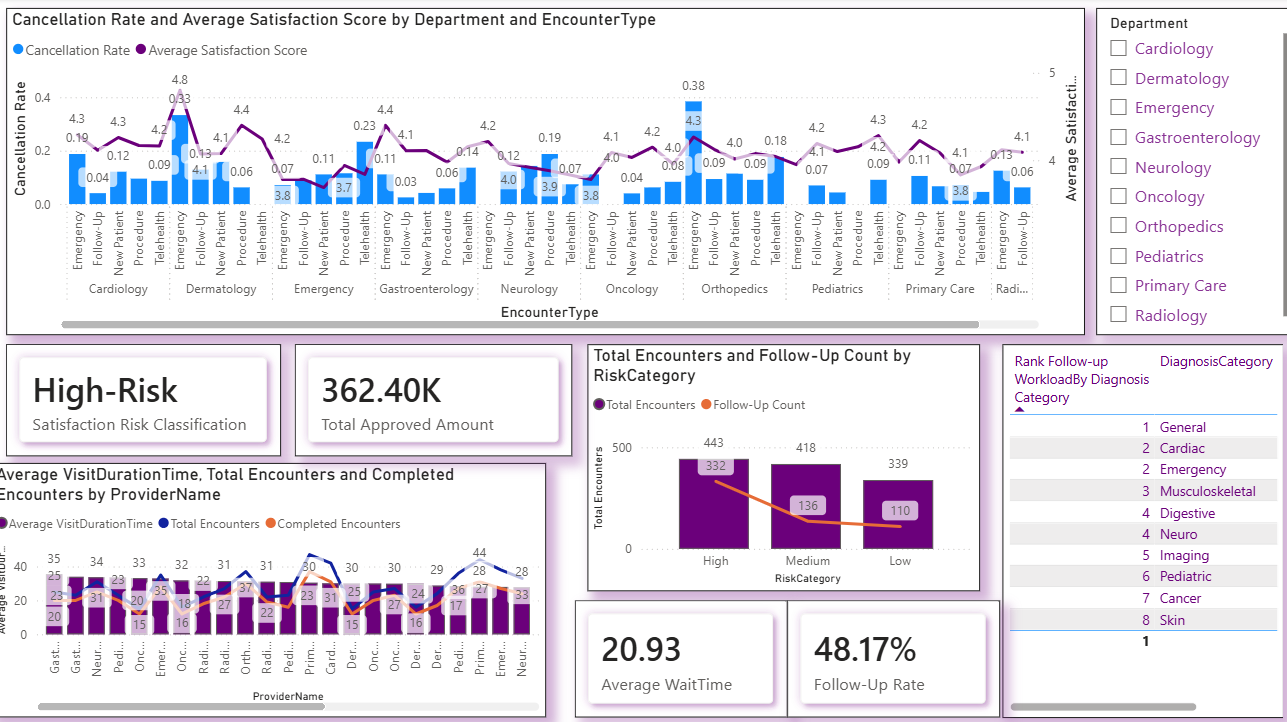

What the dashboard file says about the page in this screenshot:
{"tool":"powerbi","page":{"name":"Hospital Operation ","canvas":[1280,720],"ordinal":1},"visuals":[{"type":"lineStackedColumnComboChart","fields":{"Y2":["ClaimsTable.Average Satisfaction Score"],"Category":["ClaimsTable.Department","EncountersTable.EncounterType"],"Y":["ClaimsTable.Cancellation Rate"]},"box":[16.5,9.6,1055.2,319.7],"z":0},{"type":"cardVisual","fields":{"Data":["ClaimsTable.Satisfaction Risk Classification"]},"box":[15.9,338.9,268.8,109.9],"z":1000},{"type":"slicer","fields":{"Values":["EncountersTable.Department"]},"box":[1082.7,9.6,197.6,319.7],"z":2000},{"type":"tableEx","fields":{"Values":["ClaimsTable.Rank Follow-up WorkloadBy Diagnosis Category","EncountersTable.DiagnosisCategory","ClaimsTable.Follow-Up Count"]},"box":[990.3,338.9,275.4,365.4],"z":3000},{"type":"lineClusteredColumnComboChart","fields":{"Category":["ProvidersTable.ProviderName"],"Y":["ClaimsTable.Average VisitDurationTime"],"Y2":["ClaimsTable.Total Encounters","ClaimsTable.Completed Encounters"]},"box":[0,455.3,543.6,248.8],"z":4000},{"type":"lineClusteredColumnComboChart","fields":{"Y":["ClaimsTable.Total Encounters"],"Category":["PatientsTable.RiskCategory"],"Y2":["ClaimsTable.Follow-Up Count"]},"box":[584.7,338.4,384.4,241.3],"z":5000},{"type":"cardVisual","fields":{"Data":["ClaimsTable.Total Revenue"]},"box":[297.9,338.9,271.4,109.9],"z":6000},{"type":"cardVisual","fields":{"Data":["ClaimsTable.Average WaitTime"]},"box":[572.2,589.6,207.7,114.4],"z":7000},{"type":"cardVisual","fields":{"Data":["ClaimsTable.Follow-Up Rate"]},"box":[780,589.6,207.7,114.4],"z":8000}]}

Visuals, with their boxes in screenshot pixels (x1, y1, x2, y2), scaled from the page's 1280x720 canvas onto the 1287x722 screenshot:
lineStackedColumnComboChart - ClaimsTable.Average Satisfaction Score x ClaimsTable.Department: (17, 10, 1078, 330)
cardVisual - ClaimsTable.Satisfaction Risk Classification: (16, 340, 286, 450)
slicer - EncountersTable.Department: (1089, 10, 1286, 330)
tableEx - ClaimsTable.Rank Follow-up WorkloadBy Diagnosis Category x EncountersTable.DiagnosisCategory: (996, 340, 1273, 706)
lineClusteredColumnComboChart - ProvidersTable.ProviderName x ClaimsTable.Average VisitDurationTime: (0, 457, 547, 706)
lineClusteredColumnComboChart - ClaimsTable.Total Encounters x PatientsTable.RiskCategory: (588, 339, 974, 581)
cardVisual - ClaimsTable.Total Revenue: (300, 340, 572, 450)
cardVisual - ClaimsTable.Average WaitTime: (575, 591, 784, 706)
cardVisual - ClaimsTable.Follow-Up Rate: (784, 591, 993, 706)
